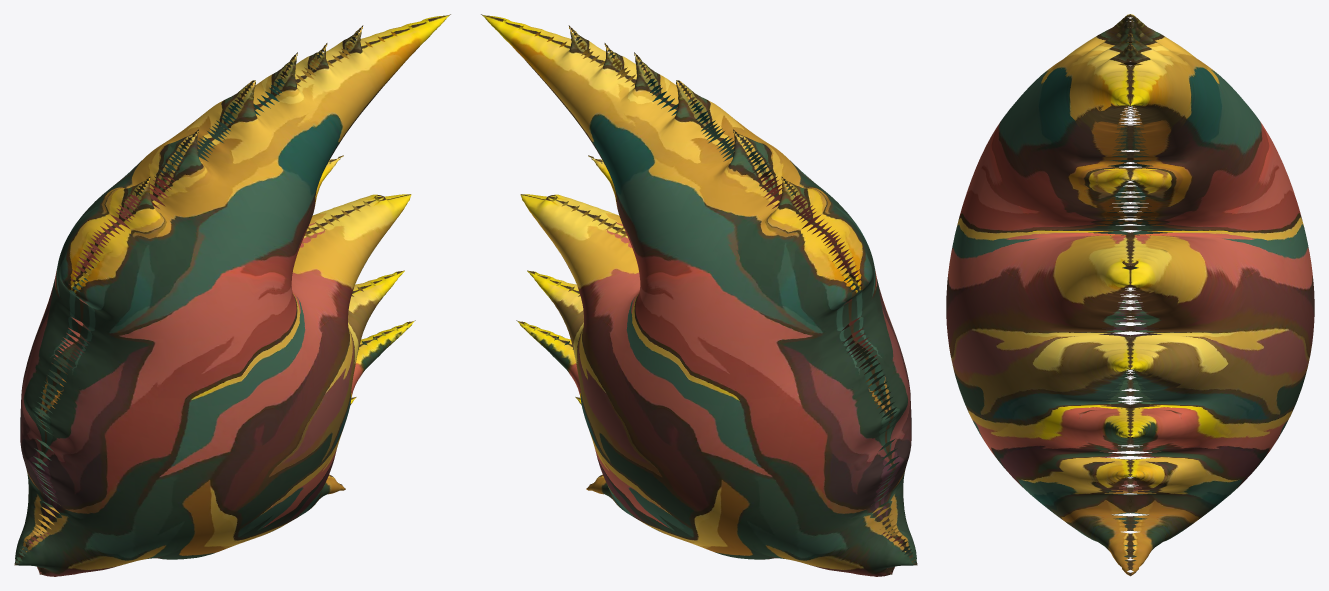
File: blade_cliff.glb
3 renders of one model, left to right at view 1: azimuth 30°, elevation 25°; view 2: azimuth 150°, elevation 25°; view 3: azimuth 270°, elevation 25°, orthographic. The views are drawn at different scales.
Parts seen in each view (by area): view 1: blade_cliff; view 2: blade_cliff; view 3: blade_cliff.
Boxes of the visible parts, box(x1,y1,x2,y2) form: blade_cliff: box(14, 14, 450, 576); blade_cliff: box(481, 14, 917, 576); blade_cliff: box(946, 14, 1314, 576).
Bounding box in the file's own units: 0.9787 × 1.02 × 0.6044.
1 material, 1 textured.
